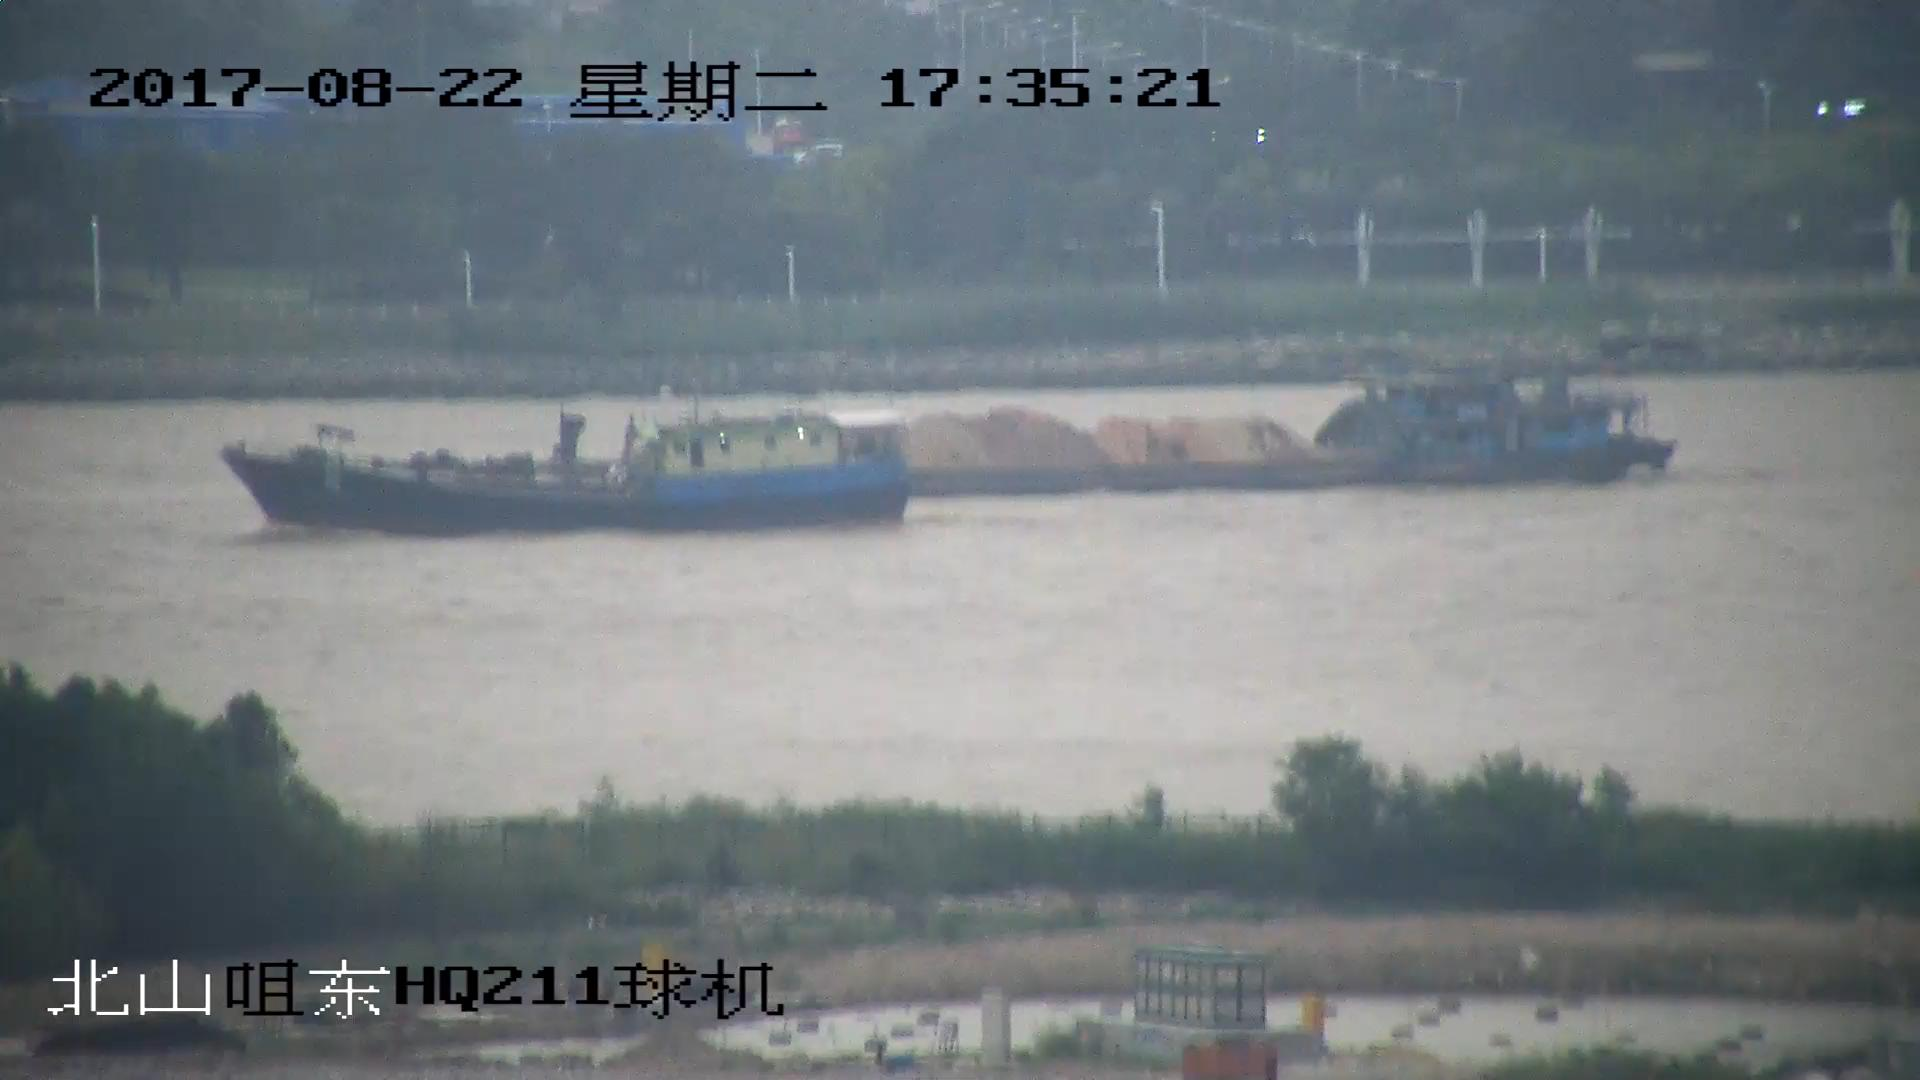fishing boat: (225, 388, 910, 531)
ore carrier: (223, 369, 1672, 499)
